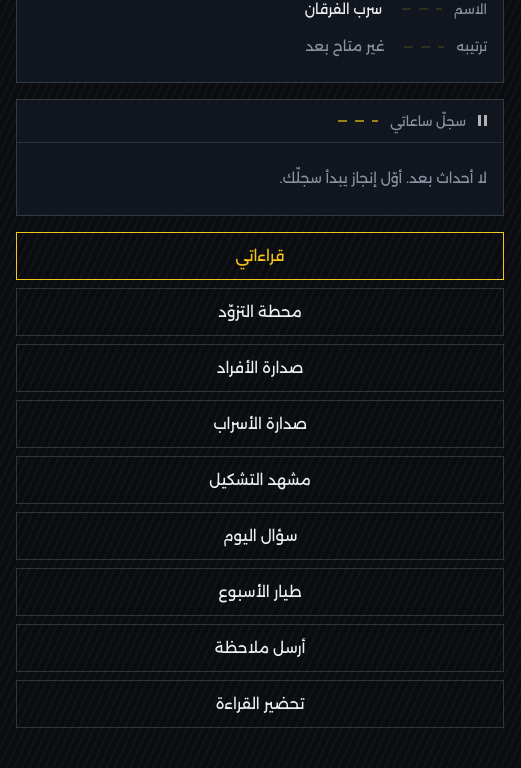
Test case: تحضير القراءة — و-١١ › الطالب: خطأ يوم الأسبوع يُعرض نصًّا كما وصل
(page scrolled)
Click the button "تحضير القراءة". click: click(260, 704)
box: 16,680 -> 504,728
(page scrolled)
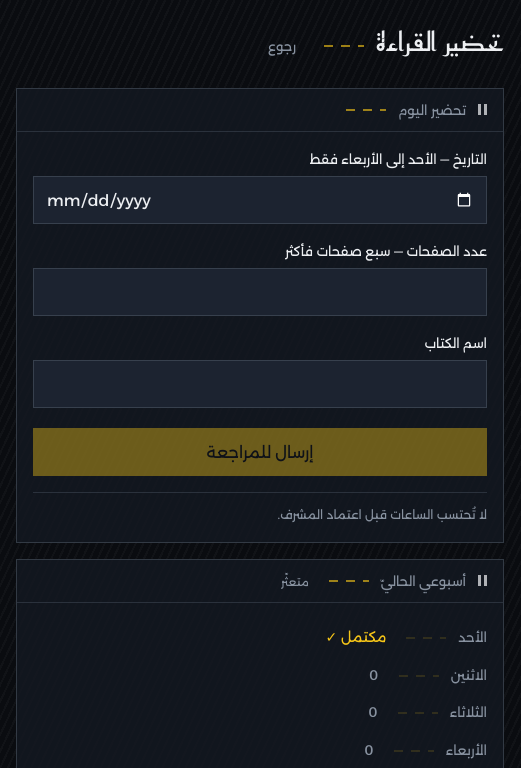
Type "2026-09-10" into the date field labelled "التاريخ — الأحد إلى الأربعاء فقط". click: (260, 200)
box: 33,176 -> 487,224
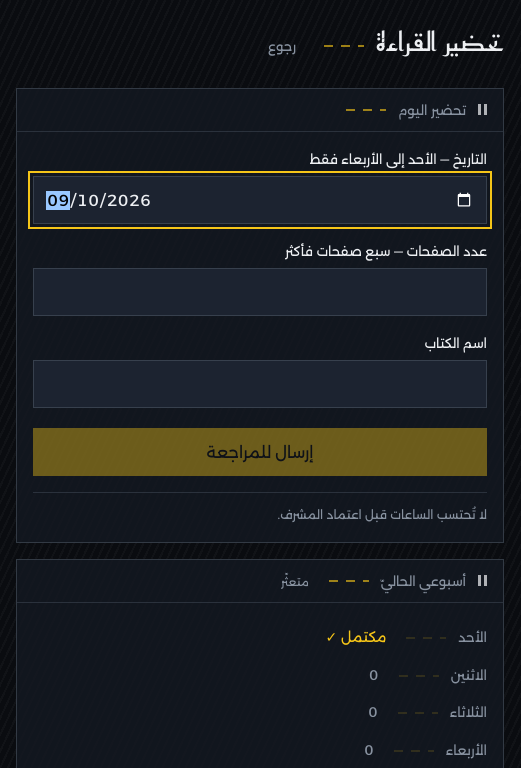
Type "10" into the field labelled "عدد الصفحات — سبع صفحات فأكثر". click: (260, 292)
box: 33,268 -> 487,316
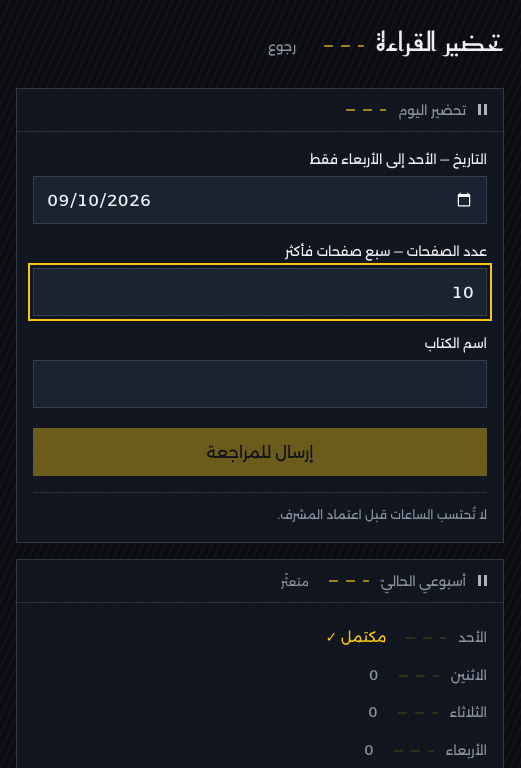
Type "كتاب" into the field labelled "اسم الكتاب". click: (260, 384)
box: 33,360 -> 487,408
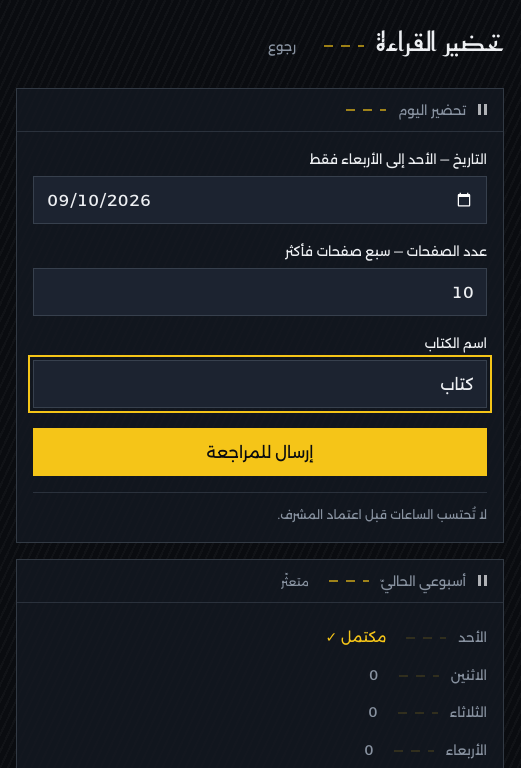
Click the button "إرسال للمراجعة". click: click(260, 452)
box: 33,428 -> 487,476
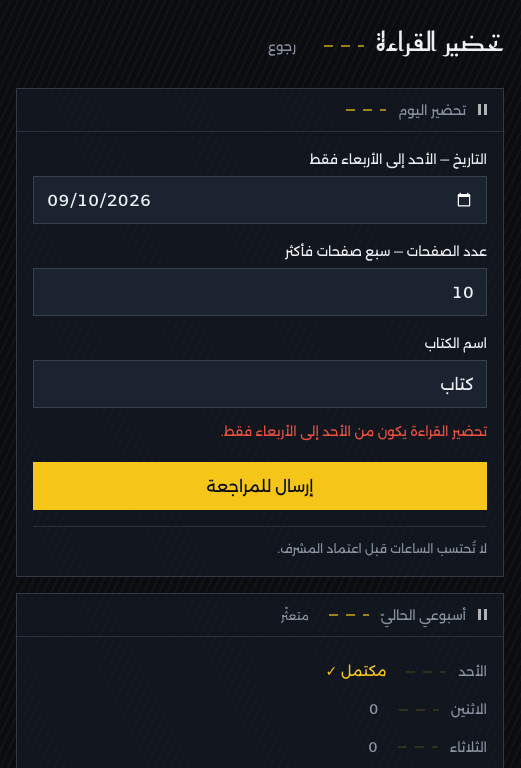
Expected: the text "تحضير القراءة يكون من الأحد إلى الأربعاء فقط." is shown, 221,423 -> 487,439
